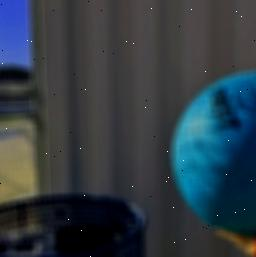algae: (174, 67, 256, 242)
